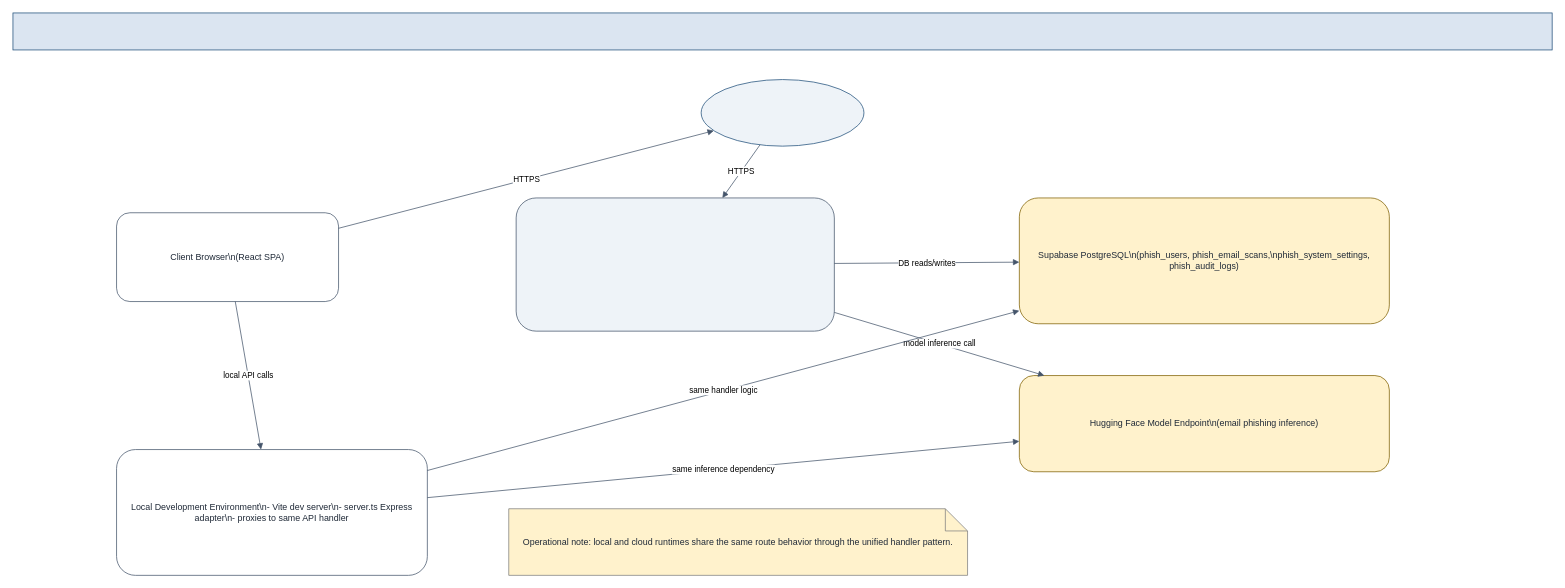
The diagram is 1565 pixels wide and 588 high, and some of its shapes have lost their labels. The centre of each missing label's shape, as x and y in pixels:
Internet: the point at 782,112
Netlify\n- Static frontend hosting\n- Serverless function /api: the point at 674,264
PhishBERT Deployment Architecture (Current Cloud + Local Development): the point at 782,31
